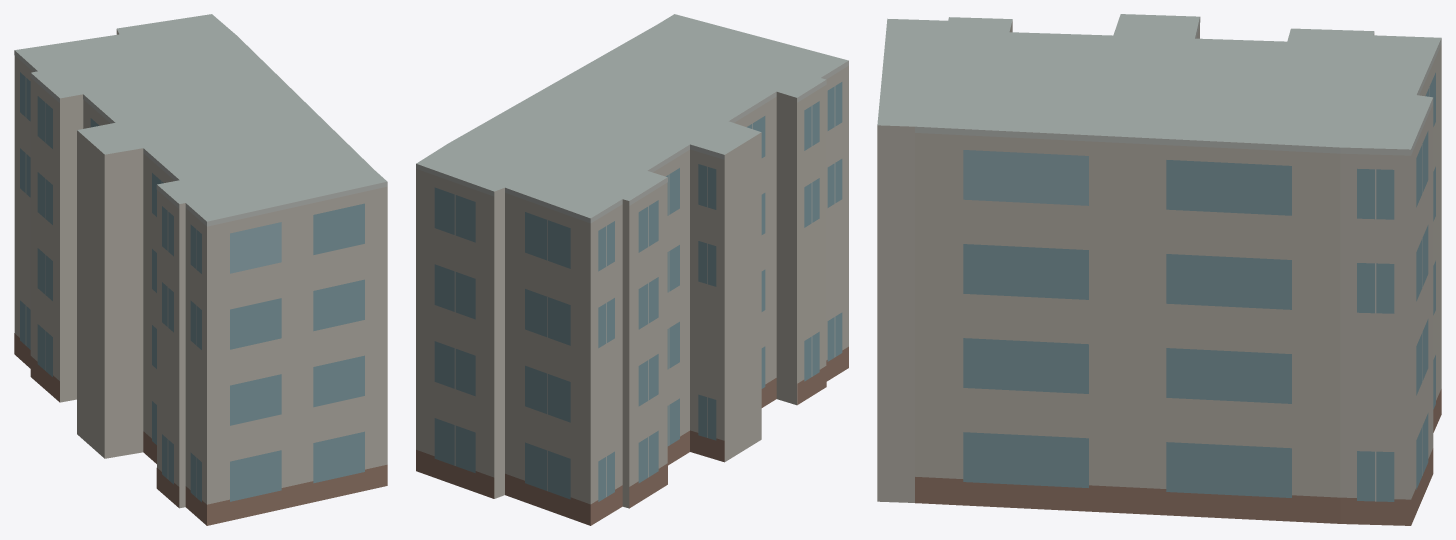
The model's file is survey-upis-33031136.glb.
The picture shows the model from 3 angles, left to right: view 1: azimuth 30°, elevation 25°; view 2: azimuth 150°, elevation 25°; view 3: azimuth 270°, elevation 25°; orthographic projection. The views are drawn at different scales.
Visible parts, largest first — view 1: survey-upis-33031136.tmp; view 2: survey-upis-33031136.tmp; view 3: survey-upis-33031136.tmp.
Boxes of the visible parts, x1,y1,x2,y2 form: survey-upis-33031136.tmp: (14,14,387,525); survey-upis-33031136.tmp: (416,14,848,525); survey-upis-33031136.tmp: (877,14,1441,525).
Bounding box in the file's own units: 11.51 × 14.9 × 20.26.
